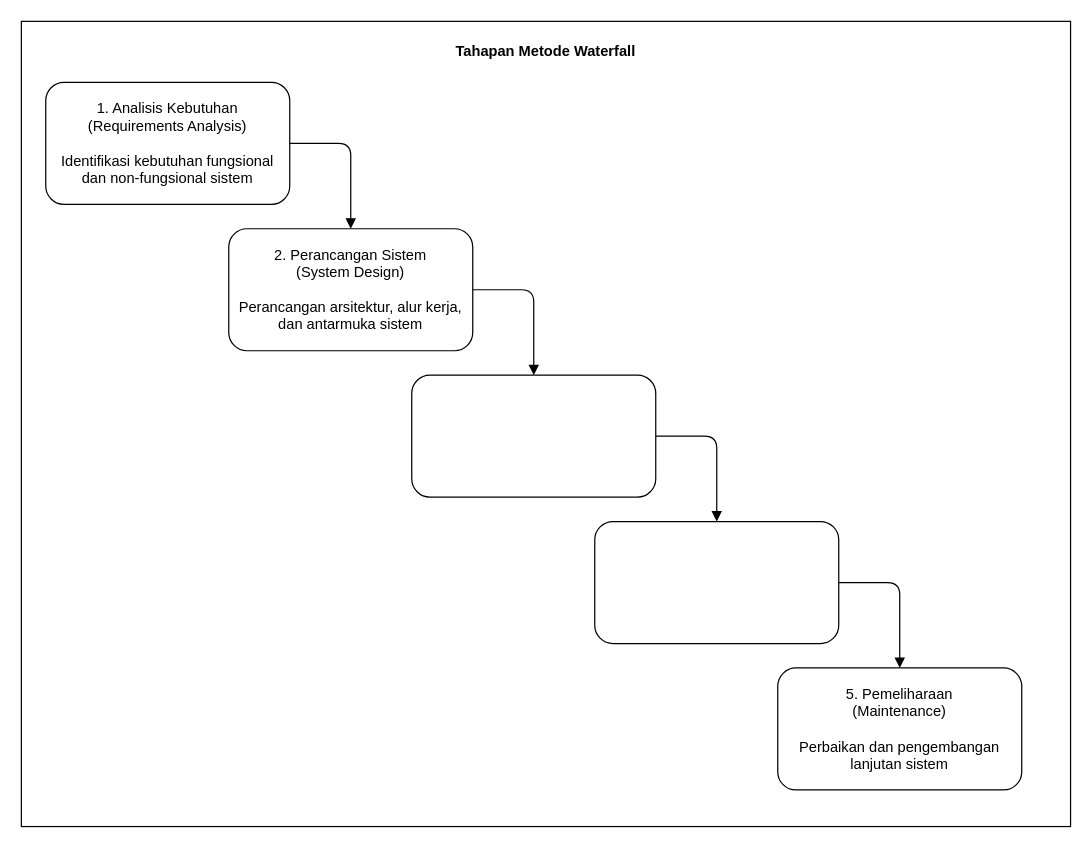
The diagram is 1092 pixels wide and 848 high, and some of its shapes have lost their labels. The centre of each missing label's shape, as x and y in pixels:
"3. Implementasi (Implementation) Penerjemahan rancangan ke dalam kode program" belongs at (x=533, y=435).
"4. Pengujian (Testing) Evaluasi sistem untuk memastikan tidak ada kesalahan" belongs at (x=716, y=582).
